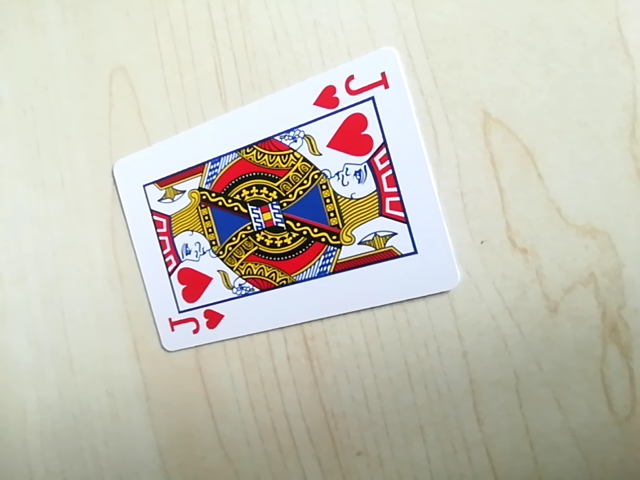hx j: (311, 63, 391, 113), (162, 303, 227, 343)
